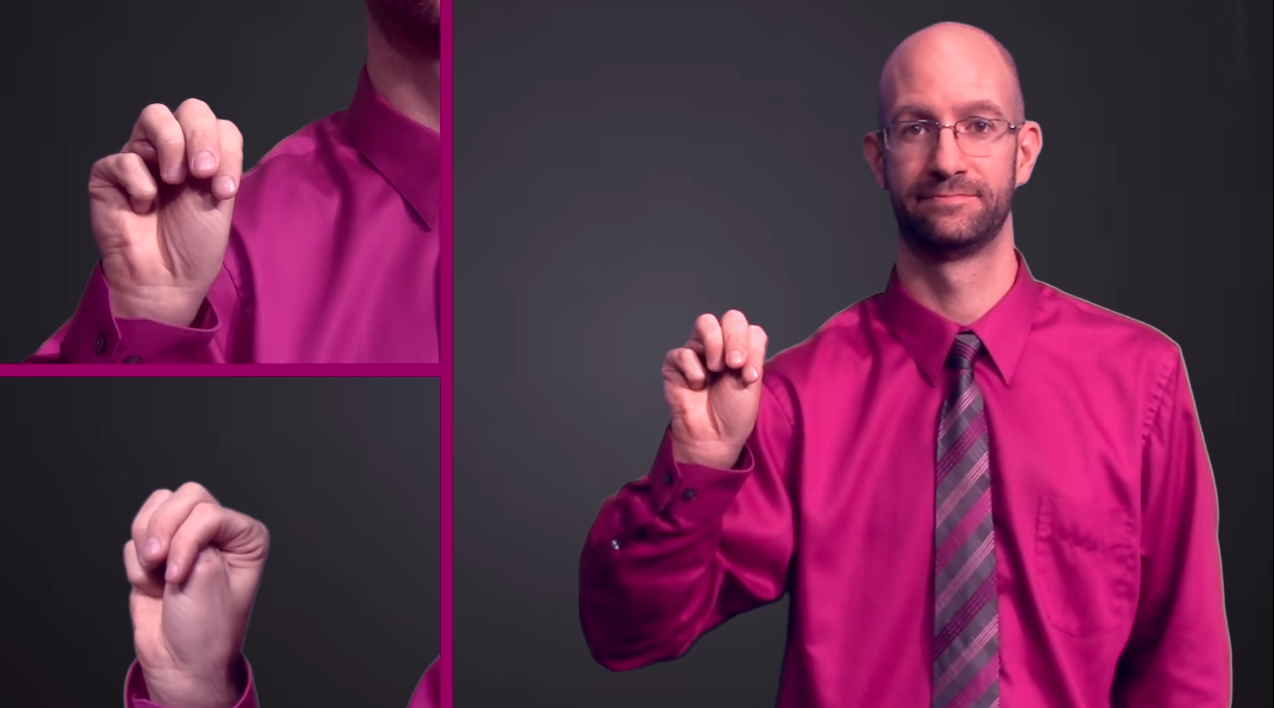m: (77, 87, 265, 329), (105, 472, 281, 708), (645, 296, 777, 473)
